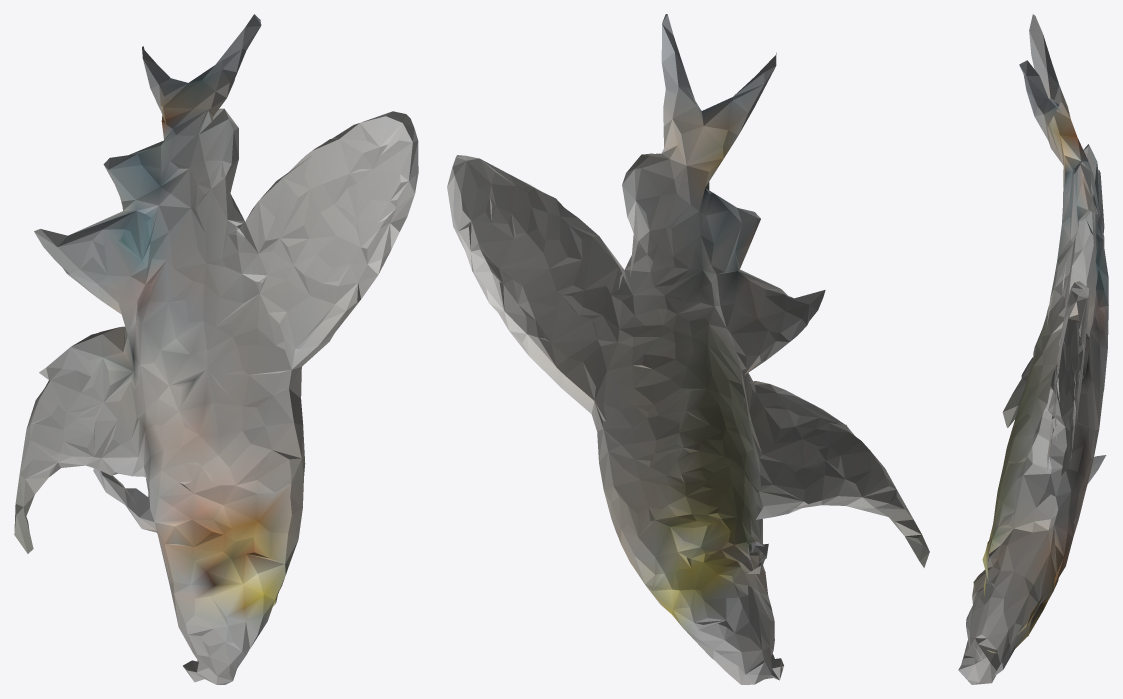
Rendered from fish-guppy.glb.
The picture shows the model from 3 angles, left to right: view 1: azimuth 30°, elevation 25°; view 2: azimuth 150°, elevation 25°; view 3: azimuth 270°, elevation 25°; orthographic projection. The views are drawn at different scales.
Parts seen in each view (by area): view 1: world; view 2: world; view 3: world.
Part boxes in pixels (bbox=[...]): world: bbox=[14, 14, 418, 684]; world: bbox=[447, 14, 929, 684]; world: bbox=[958, 14, 1108, 684].
Bounding box in the file's own units: 0.7509 × 1.07 × 0.224.
